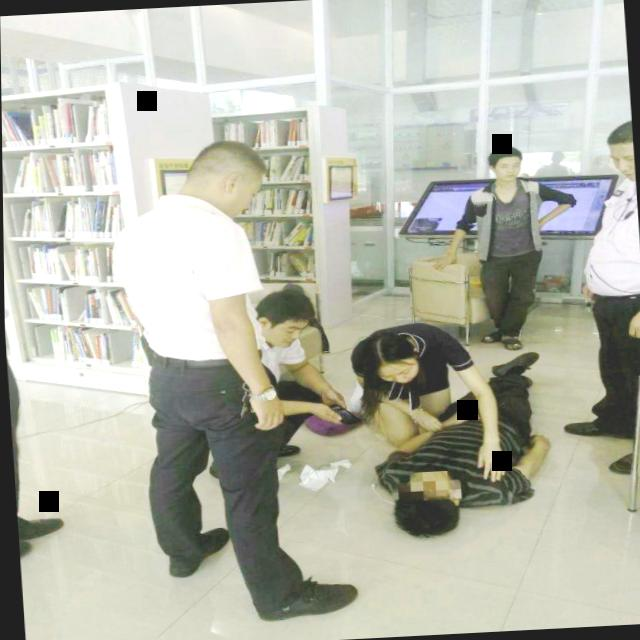Fall-Detected: (359, 346, 576, 543)
